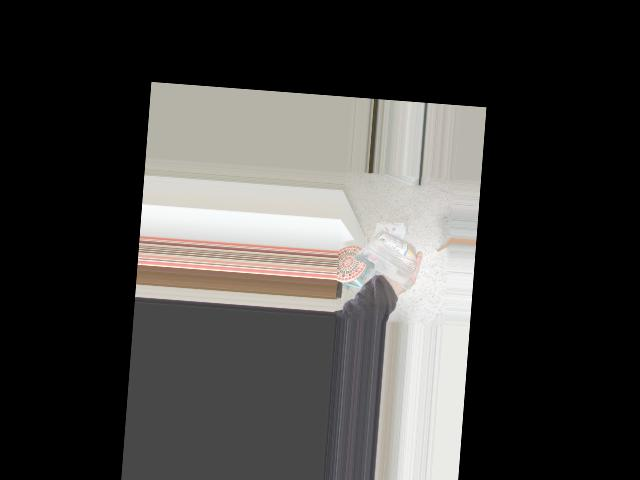cheese: (374, 214, 407, 280)
